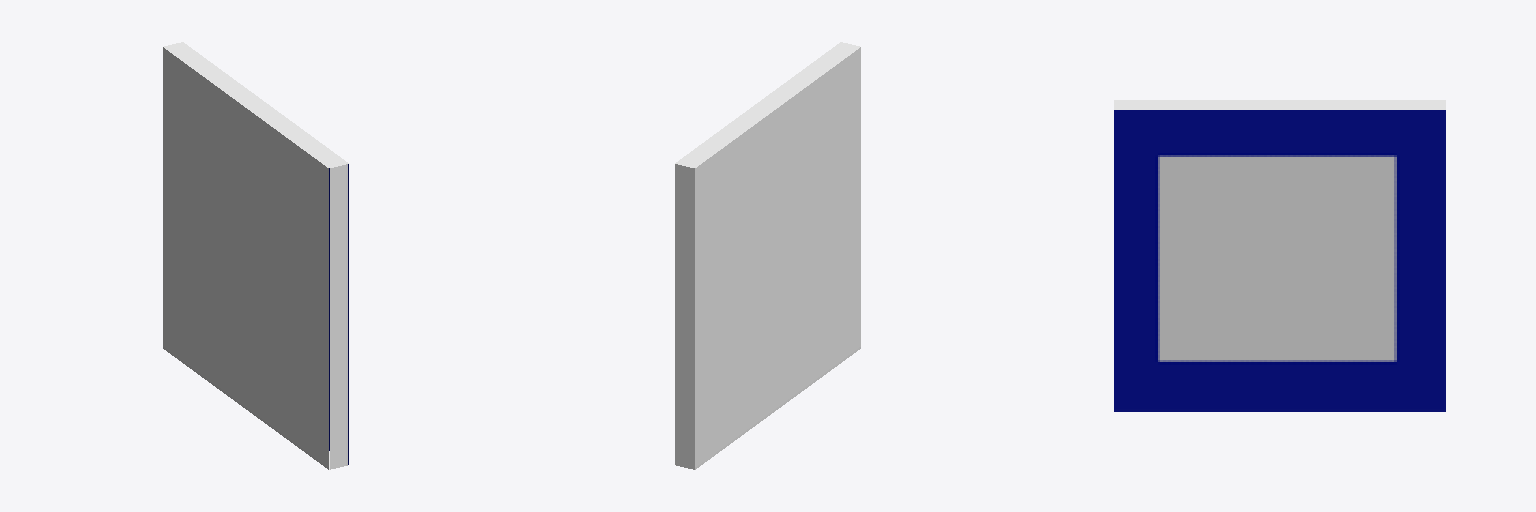
3 views of the same model, side by side, from view 1: azimuth 30°, elevation 25°; view 2: azimuth 150°, elevation 25°; view 3: azimuth 270°, elevation 25° (orthographic).
Visible parts, largest first — view 1: Circle_Circle.001; view 2: Circle_Circle.001; view 3: Circle_Circle.001.
Boxes of the visible parts, x1=… form: Circle_Circle.001: x1=163, y1=42, x2=348, y2=469; Circle_Circle.001: x1=675, y1=42, x2=860, y2=469; Circle_Circle.001: x1=1114, y1=100, x2=1445, y2=411.
Size of the model in its own units: 0.1 by 1.41 by 1.41.
1 materials, 1 textured.